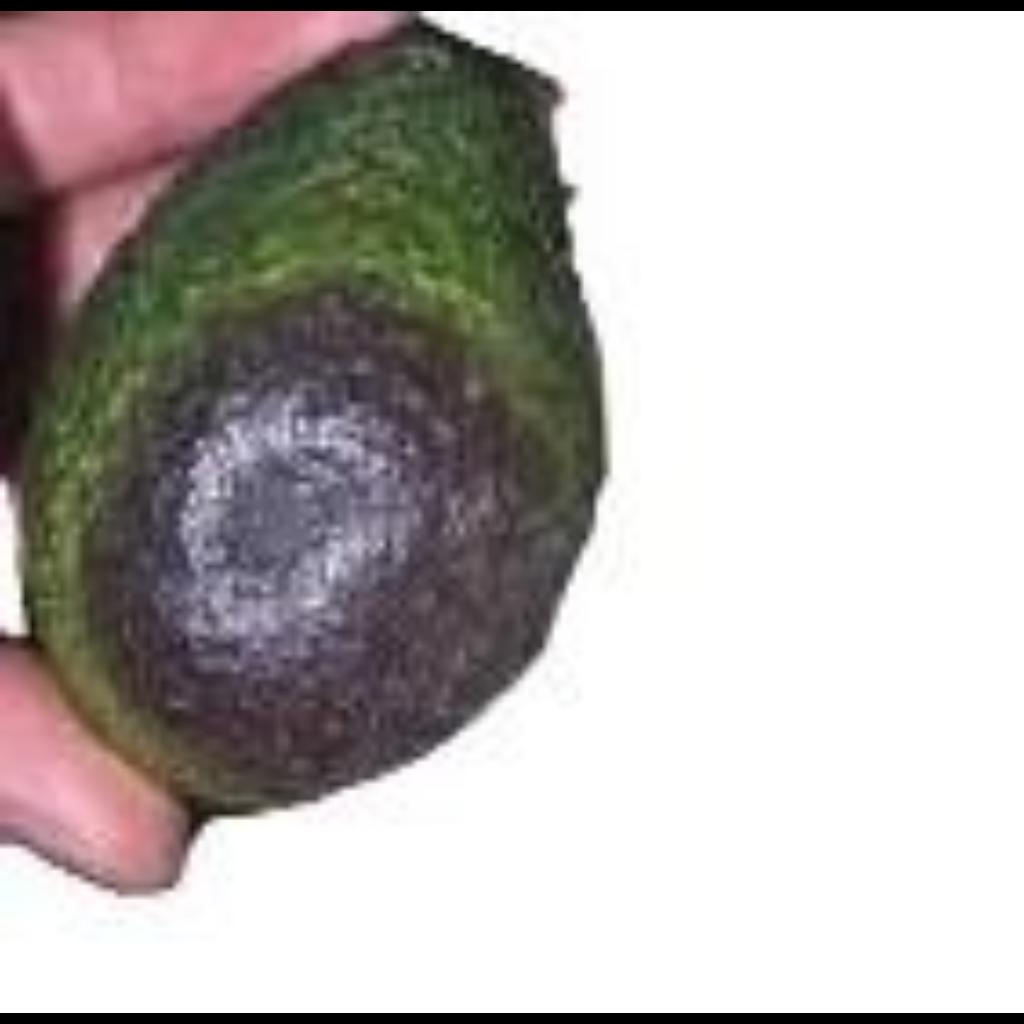Anthracnose: (69, 91, 519, 759)
